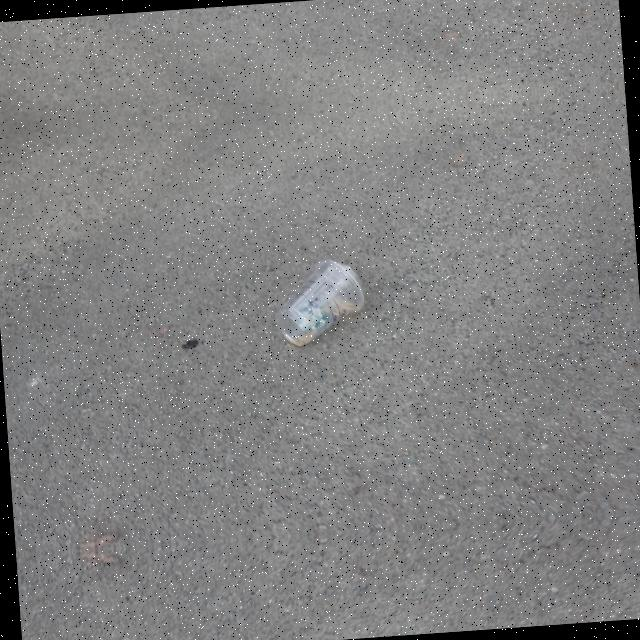Plastic: (270, 255, 368, 348)
